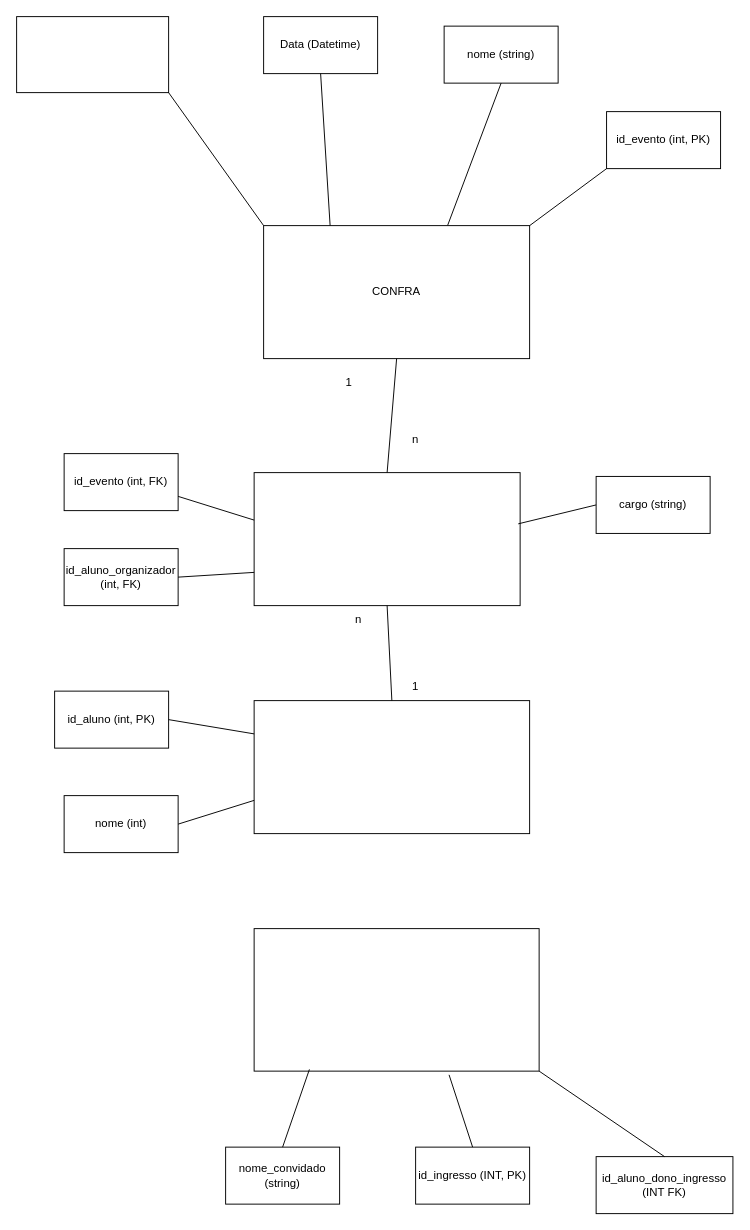
Image size: 750x1230. Some labels were removed from this diagram. The shapes that lost their labels are listed below. From the top down, each one's centre as x and y in pixels, then its label:
At (92,54): "Tipo de evento (int, 0=pizzada, 1=choppada,2=cinema...)".
At (386,539): "ORGANIZADORES".
At (391,767): "ALUNO".
At (396,999): "INGRESSO".
